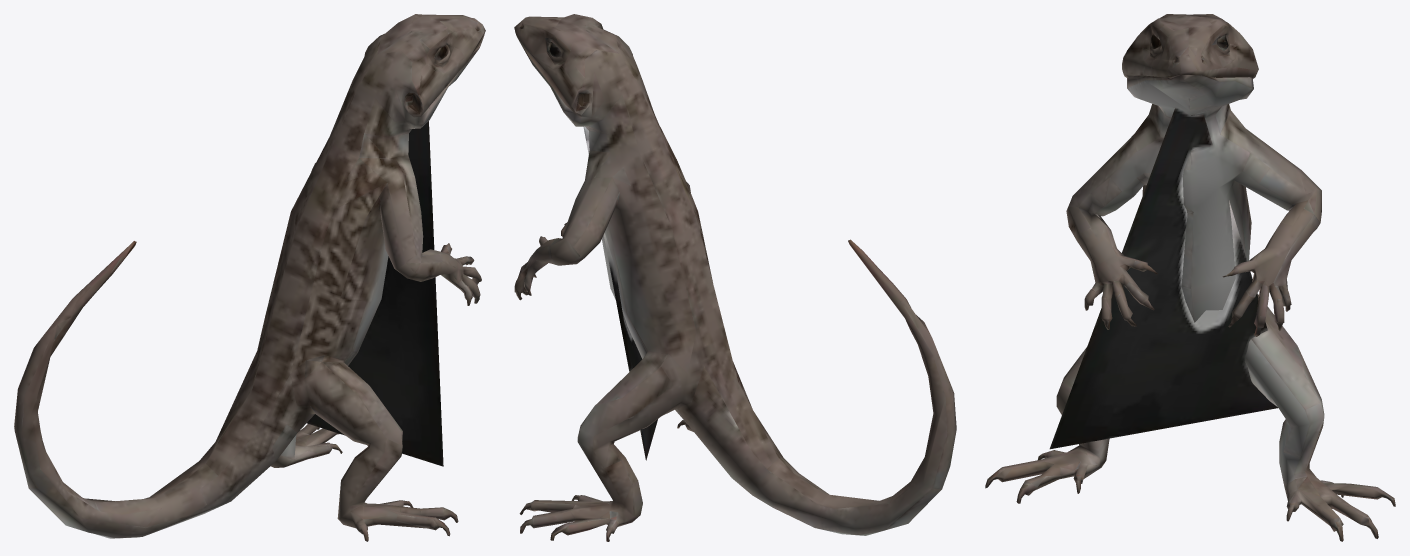
Rendered from calango.glb.
3 renders of one model, left to right at view 1: azimuth 30°, elevation 25°; view 2: azimuth 150°, elevation 25°; view 3: azimuth 270°, elevation 25°, orthographic. The views are drawn at different scales.
Parts seen in each view (by area): view 1: Calango do sertão; view 2: Calango do sertão; view 3: Calango do sertão.
Part boxes in pixels (x1=…): Calango do sertão: x1=14, y1=14, x2=485, y2=541; Calango do sertão: x1=514, y1=14, x2=956, y2=541; Calango do sertão: x1=985, y1=14, x2=1395, y2=541.
Size of the model in its own units: 0.998 by 0.9551 by 0.6621.
Materials: 1 (1 with a texture image).
